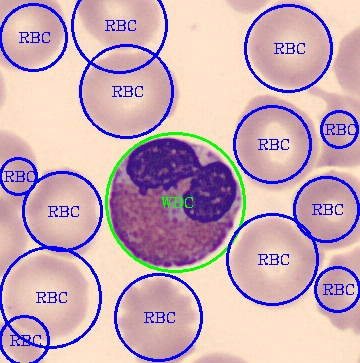RBC: (74, 49, 181, 140), (228, 213, 324, 312), (234, 91, 319, 193), (2, 253, 92, 343), (246, 1, 334, 91), (116, 271, 201, 361), (26, 164, 102, 259), (291, 169, 359, 252), (0, 0, 67, 72), (74, 0, 163, 50), (312, 246, 358, 333)
WBC: (104, 135, 242, 266)
